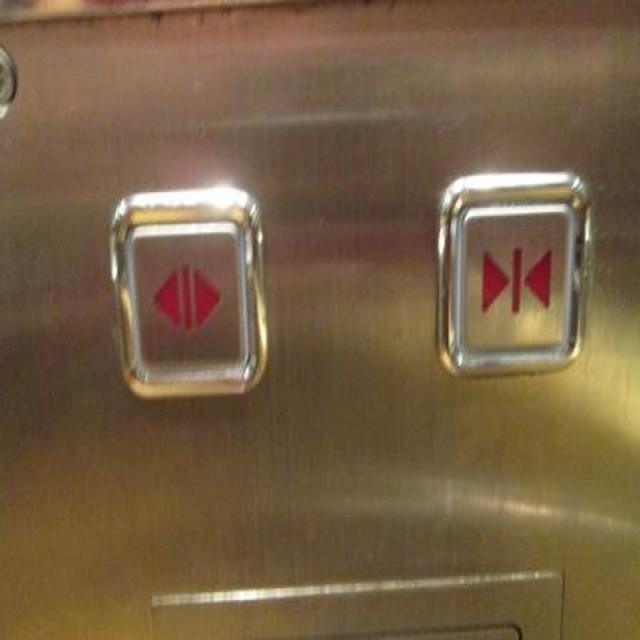close: (434, 167, 587, 381)
open: (107, 185, 269, 403)
